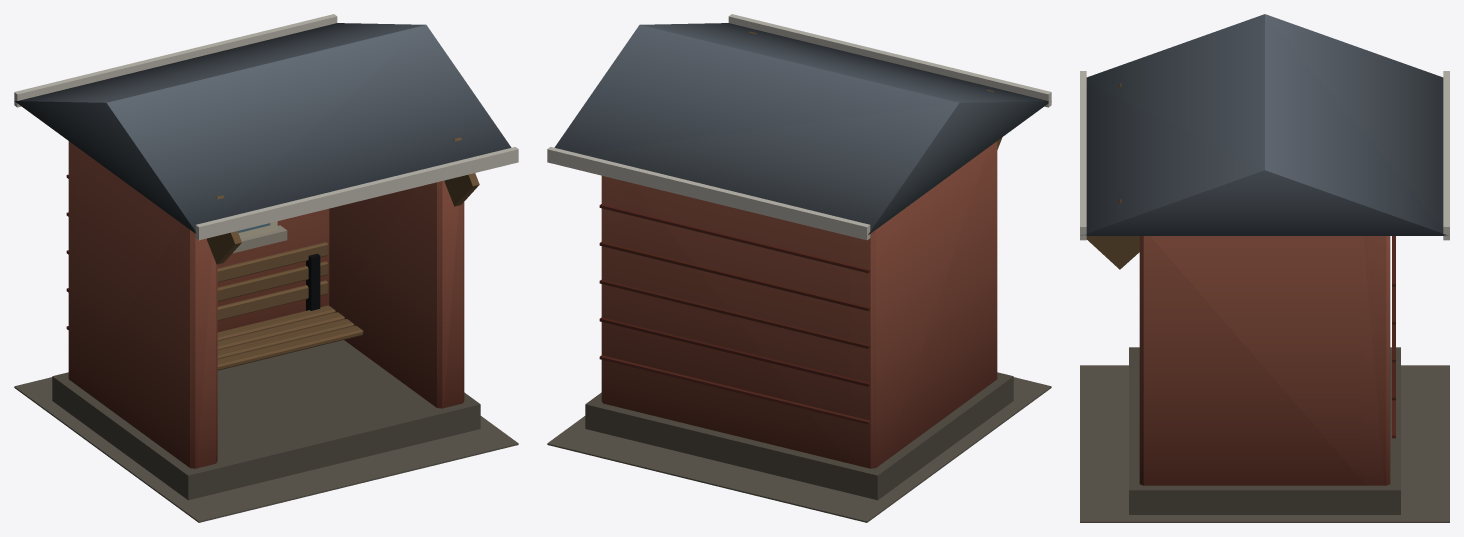
Rendered from waiting-shelter.glb.
3 views of the same model, side by side, from view 1: azimuth 30°, elevation 25°; view 2: azimuth 150°, elevation 25°; view 3: azimuth 270°, elevation 25° (orthographic).
Visible parts, largest first — view 1: waiting_shelter; view 2: waiting_shelter; view 3: waiting_shelter.
Boxes of the visible parts, x1,y1,x2,y2 form: waiting_shelter: (14, 14, 518, 522); waiting_shelter: (547, 14, 1051, 522); waiting_shelter: (1080, 14, 1449, 522).
Bounding box in the file's own units: 2.8 × 2.95 × 2.8.
